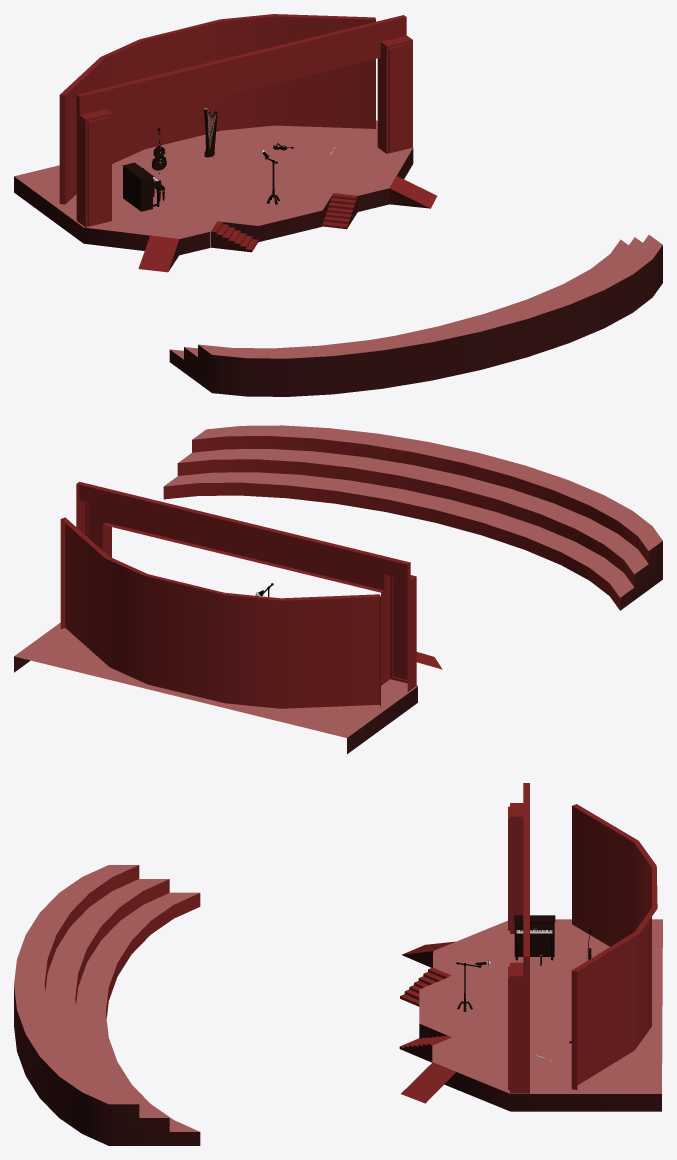
File: ArtSchoolIdle_Music.fbx
The picture shows the model from 3 angles, top to bottom: view 1: azimuth 30°, elevation 25°; view 2: azimuth 150°, elevation 25°; view 3: azimuth 270°, elevation 25°; orthographic projection. The views are drawn at different scales.
Visible parts, largest first — view 1: Music_Scene, Amp, Ins_Piano; view 2: Music_Scene, Amp; view 3: Music_Scene, Amp, Ins_Piano.
Boxes of the visible parts, x1,y1,x2,y2 form: Music_Scene: [14, 14, 437, 272]; Amp: [169, 235, 662, 396]; Ins_Piano: [122, 162, 161, 211]; Music_Scene: [14, 481, 442, 753]; Amp: [163, 425, 662, 610]; Music_Scene: [399, 783, 662, 1111]; Amp: [14, 865, 200, 1145]; Ins_Piano: [514, 915, 555, 960].
Bounding box in the file's own units: 1848 × 2119 × 557.
